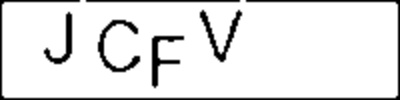C: (94, 14, 142, 76)
F: (146, 31, 188, 94)
J: (43, 7, 75, 70)
V: (195, 6, 247, 66)
